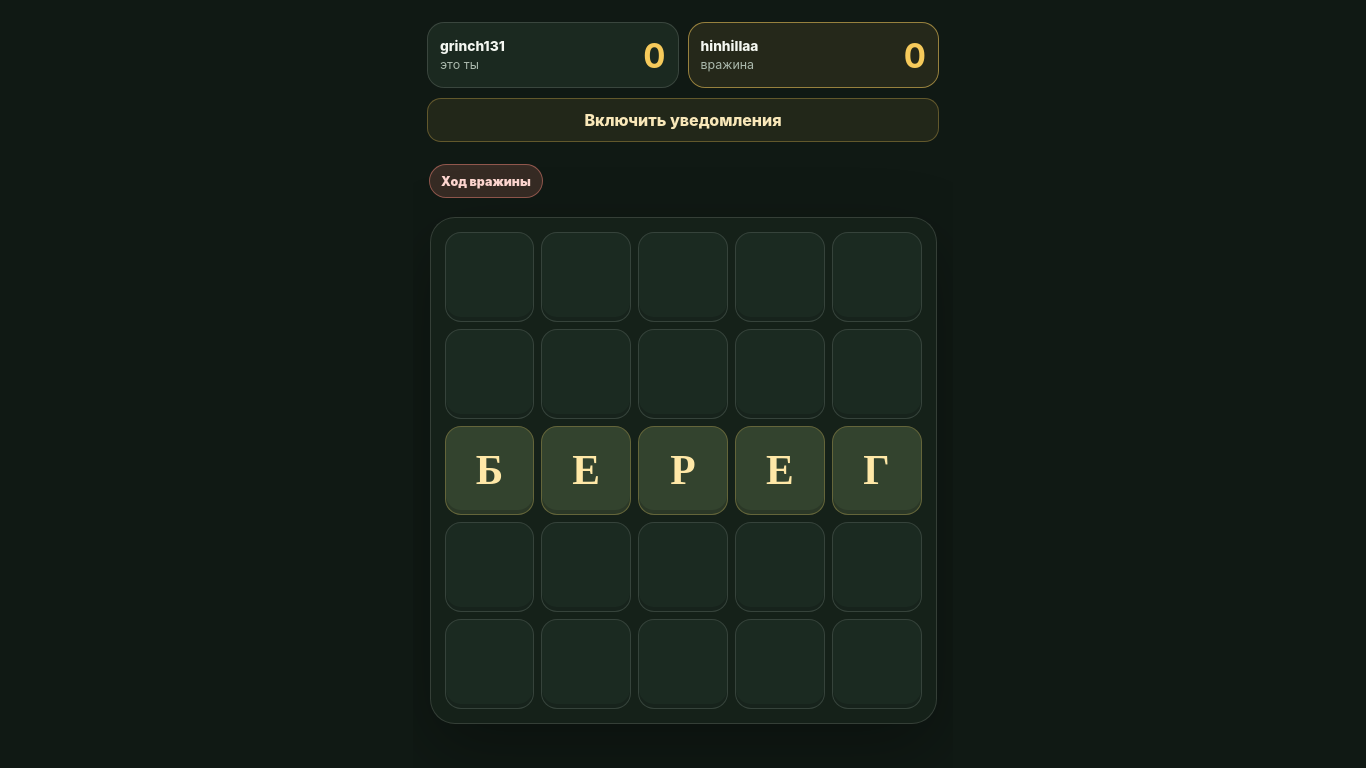
Test case: App states and orchestration › confirms and submits a resignation with the current revision
This screenshot has width=1366, height=768.
Click the button "Ход вражины": (486, 181) [429,164,543,198]
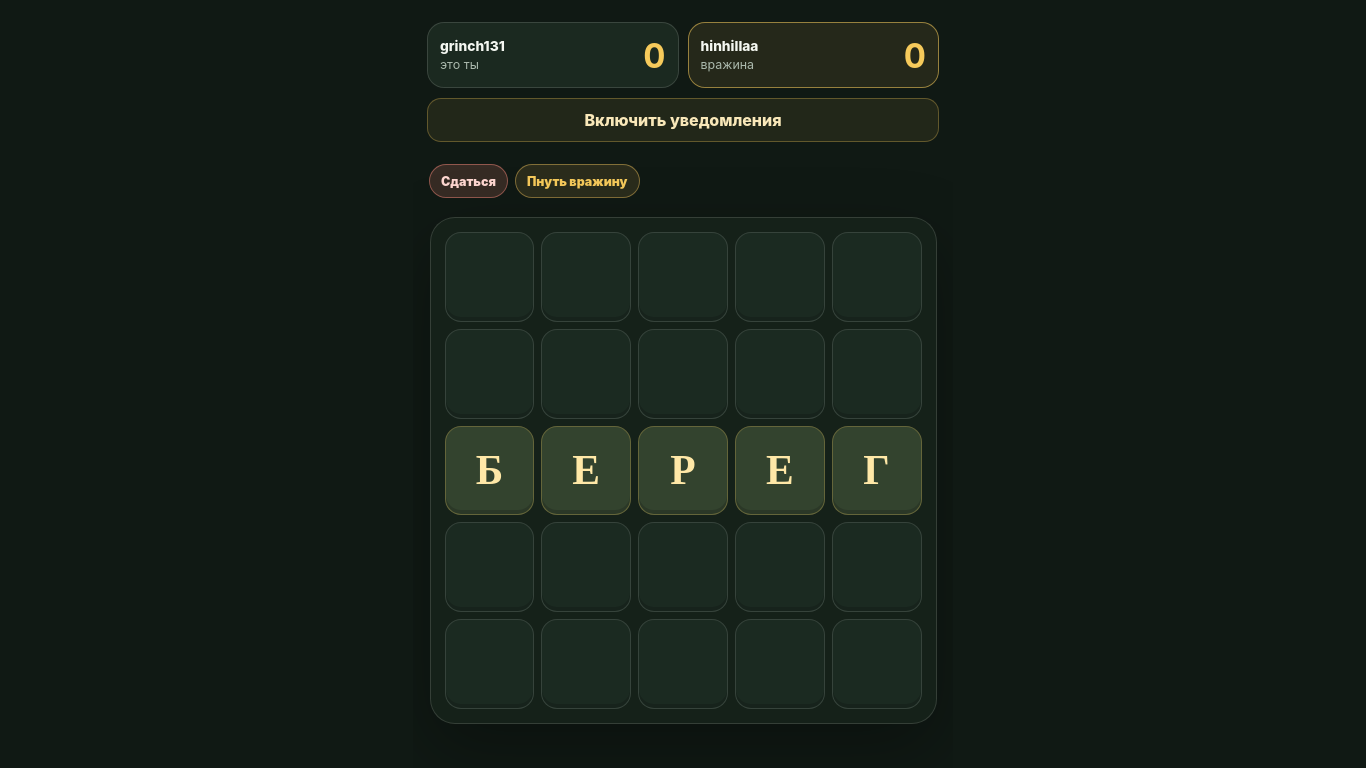
Click the button "Сдаться": (468, 181) [429,164,508,198]
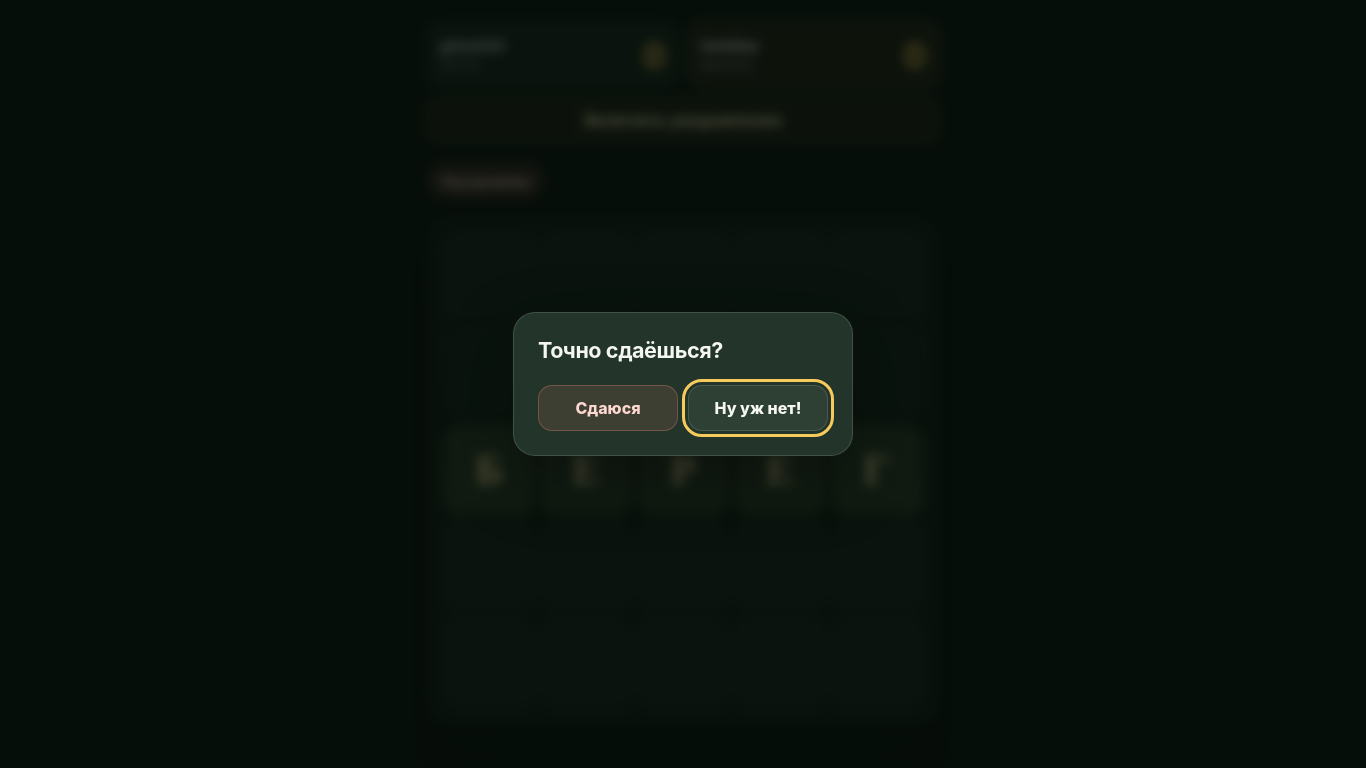
Click the button "Сдаюся": (608, 408) [538,385,678,431]
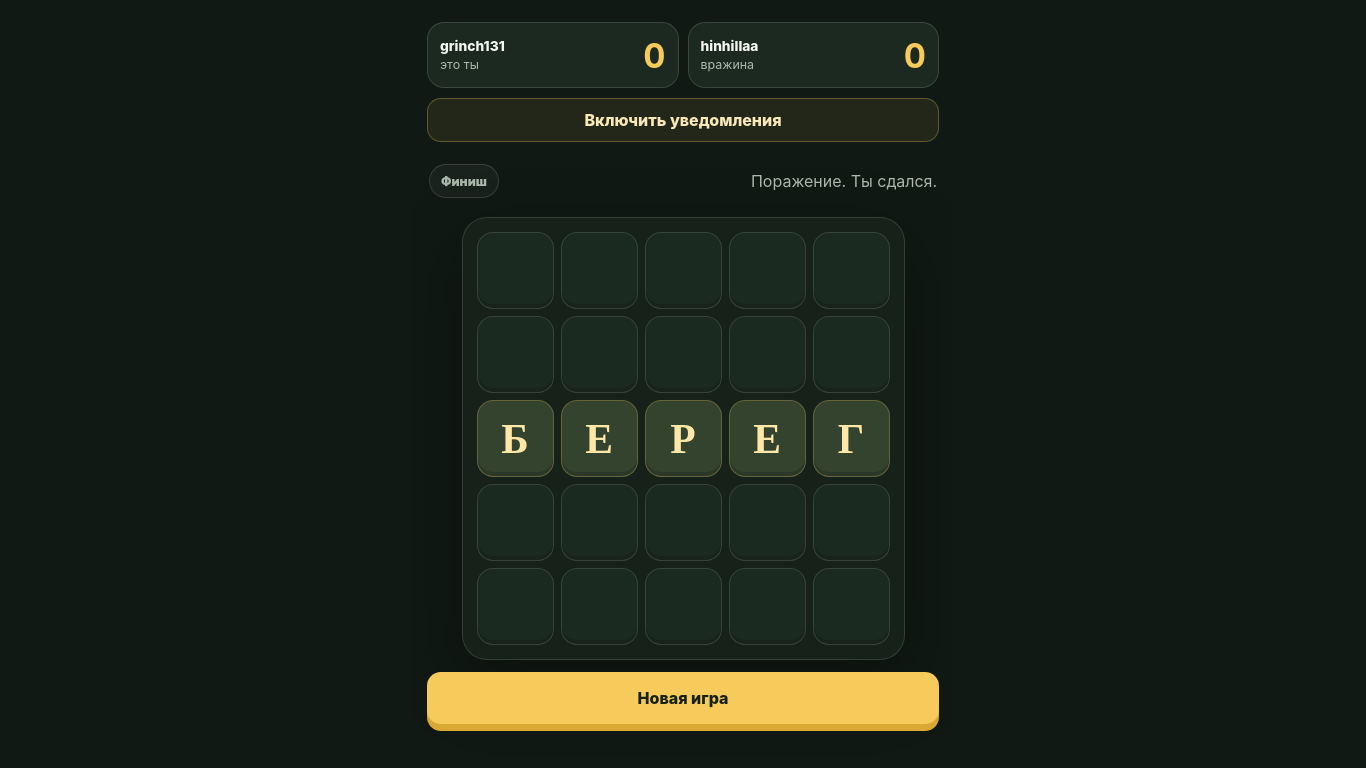
Result: the text "Поражение. Ты сдался." is shown at [751,171,937,191]
